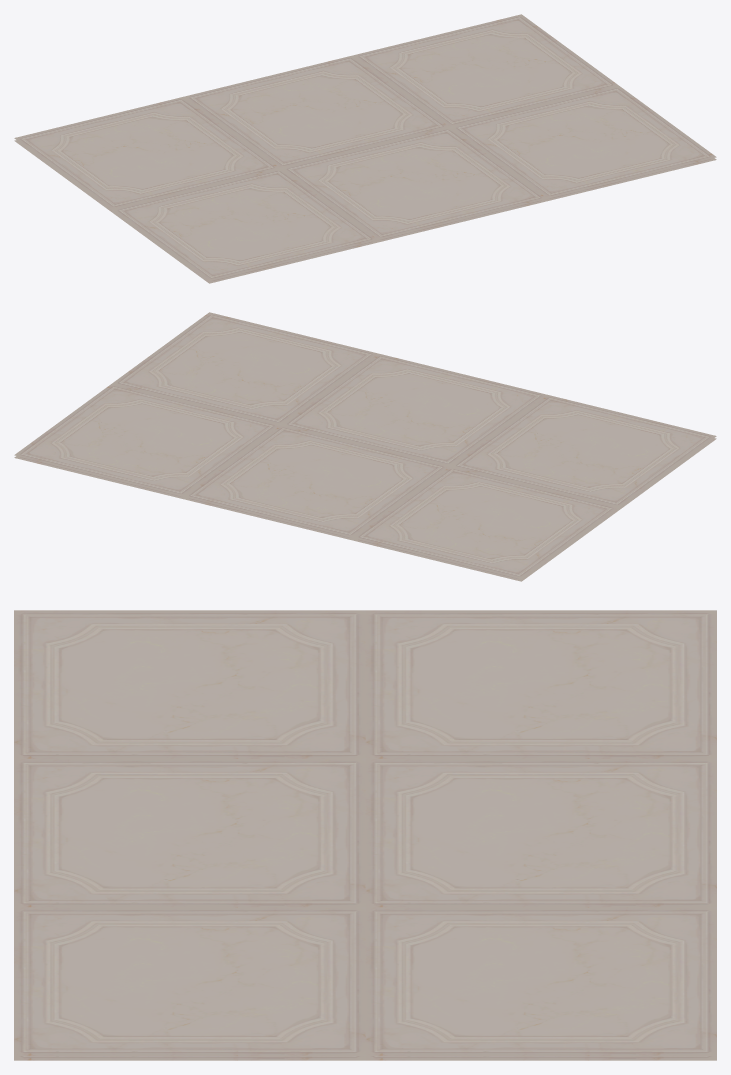
The model's file is Homeworld_Interior_Fd_Room_B_Ceiling_01_Vo.fbx.
The picture shows the model from 3 angles, top to bottom: view 1: azimuth 30°, elevation 25°; view 2: azimuth 150°, elevation 25°; view 3: azimuth 270°, elevation 25°; orthographic projection. The views are drawn at different scales.
Visible parts, largest first — view 1: Homeworld_Interior_Fd_Room_Ceiling_01_Vo (×6); view 2: Homeworld_Interior_Fd_Room_Ceiling_01_Vo (×6); view 3: Homeworld_Interior_Fd_Room_Ceiling_01_Vo (×6).
Boxes of the visible parts, bbox=[...] form: Homeworld_Interior_Fd_Room_Ceiling_01_Vo (×6): bbox=[14, 14, 716, 283]; Homeworld_Interior_Fd_Room_Ceiling_01_Vo (×6): bbox=[14, 312, 716, 581]; Homeworld_Interior_Fd_Room_Ceiling_01_Vo (×6): bbox=[14, 610, 716, 1060].
Bounding box in the file's own units: 15 × 0.074 × 10.
